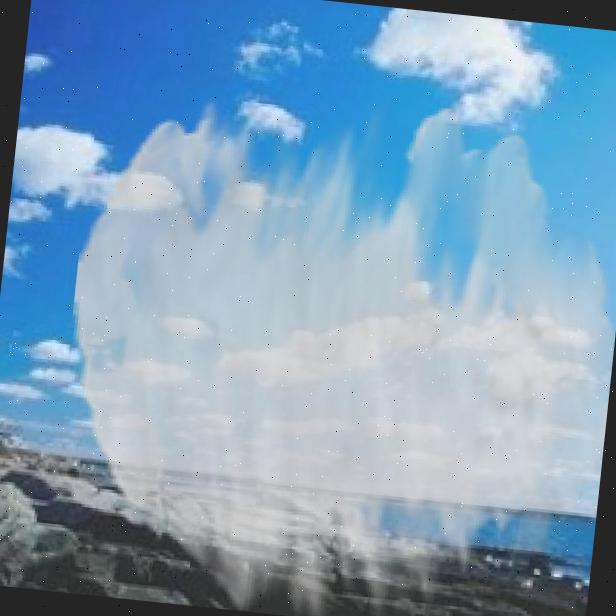smoke: (43, 72, 616, 616)
